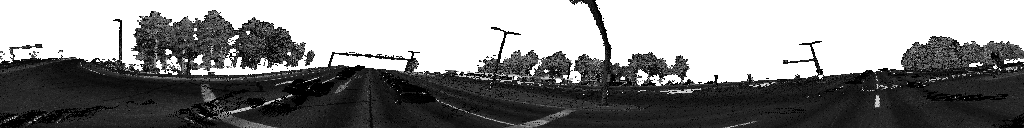gantry_sign_pole: (570, 0, 611, 104), (783, 41, 821, 76), (328, 52, 406, 66), (8, 44, 42, 61)
light_pole: (488, 28, 520, 91), (113, 19, 122, 69), (404, 52, 419, 74), (952, 42, 962, 69), (564, 63, 571, 86)
traffic_pole: (991, 53, 998, 70)
